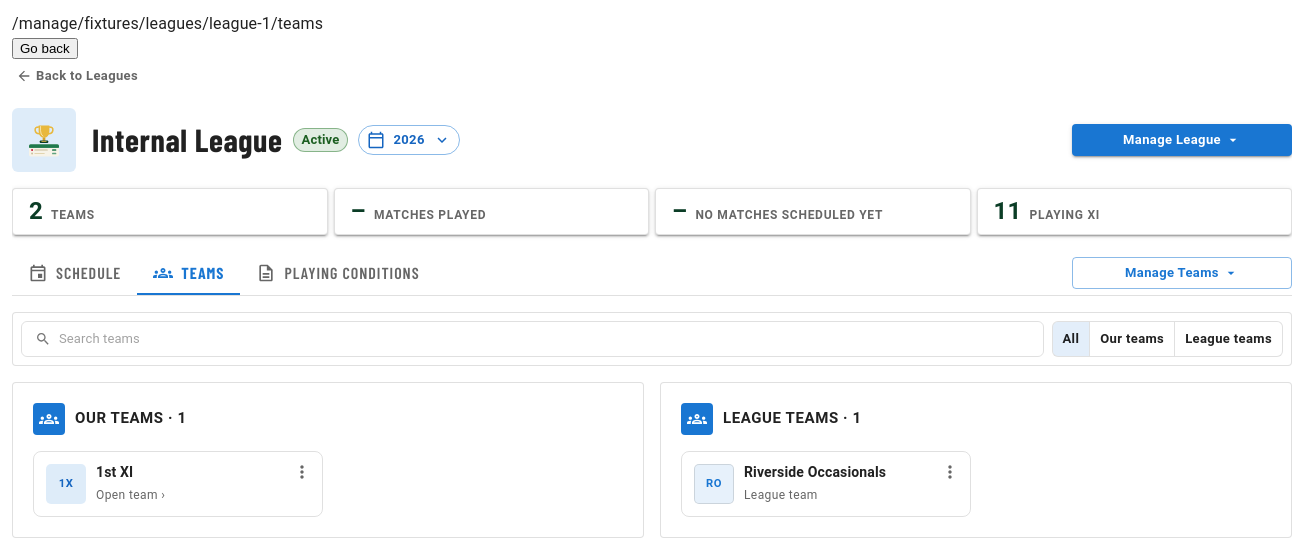
LeagueTeamsView › searches team names in both cards
Check: the link "1st XI" is shown, box [96, 464, 133, 480]
Type "occasionals" into the field labelled "Search" at [551, 339], box [59, 321, 1044, 357]
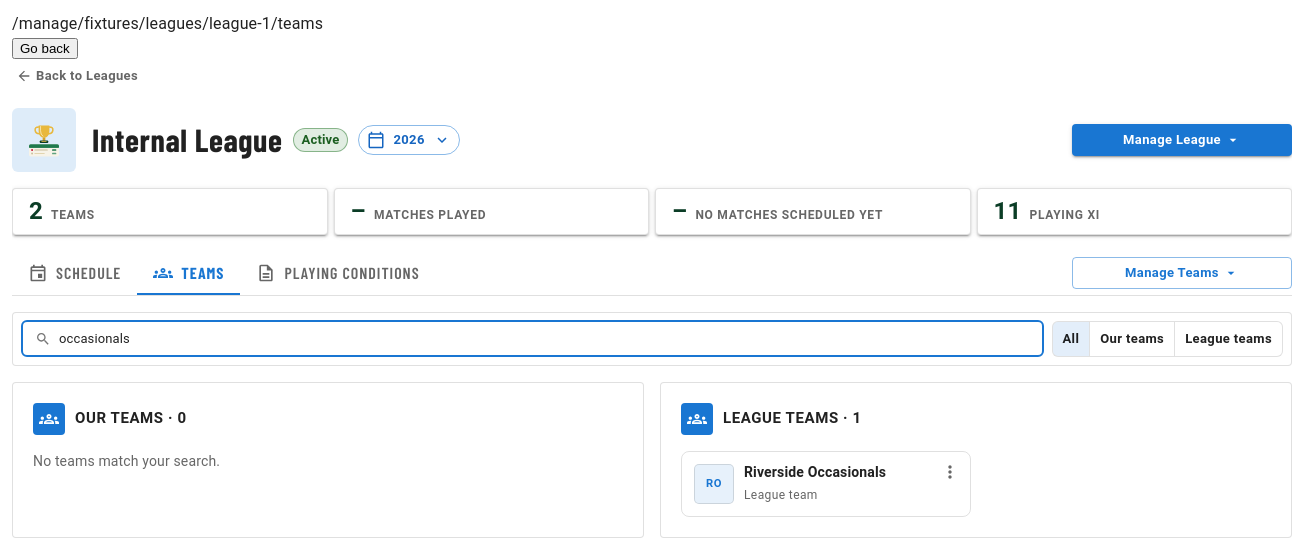
Check: the text "Riverside Occasionals" is shown, box [744, 464, 886, 480]
Check: the link "1st XI" is gone
Check: the text "No teams match your search." is shown, box [33, 453, 220, 469]
